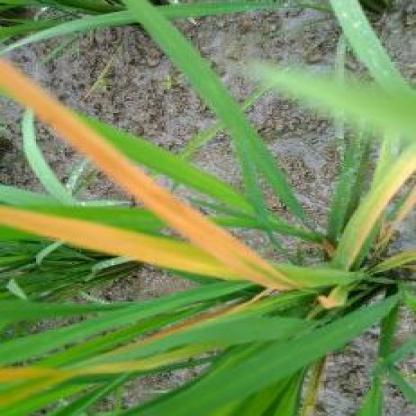Tungro: (1, 60, 307, 292), (1, 206, 266, 284)
